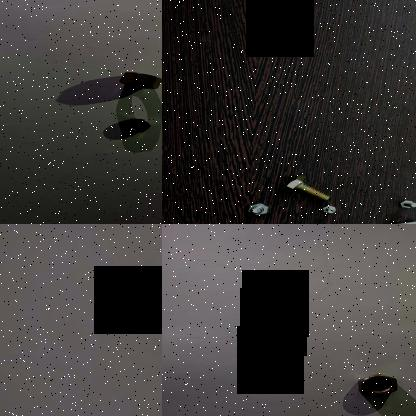Bolts: (278, 173, 334, 203), (397, 196, 416, 212)
NUTS: (109, 65, 162, 94), (105, 115, 162, 141), (349, 372, 401, 398)
